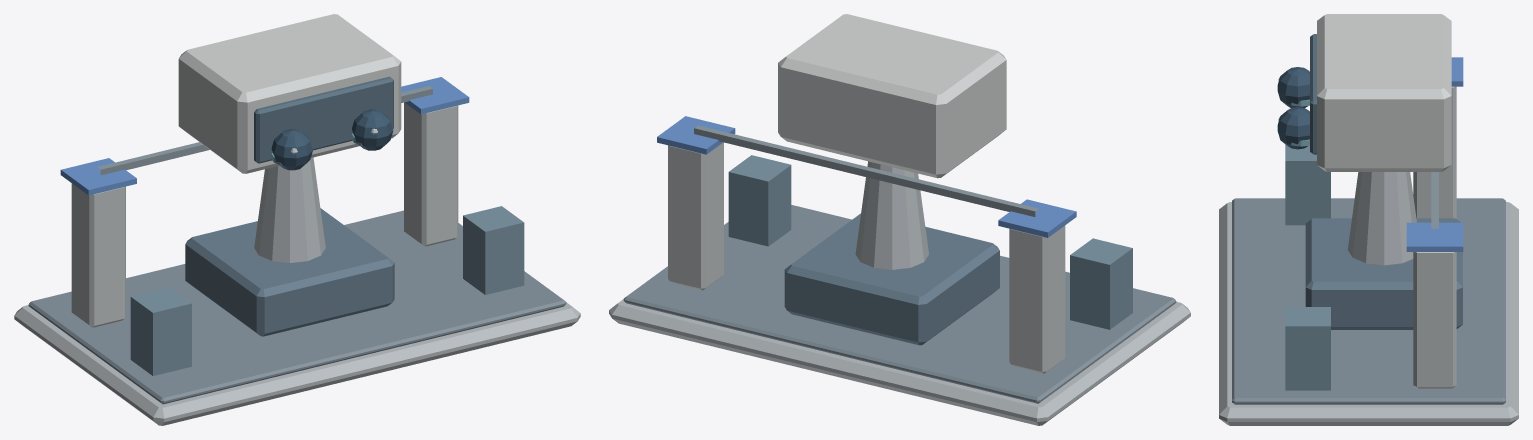
Rendered from vision.glb.
3 renders of one model, left to right at view 1: azimuth 30°, elevation 25°; view 2: azimuth 150°, elevation 25°; view 3: azimuth 270°, elevation 25°, orthographic. The views are drawn at different scales.
Parts seen in each view (by area): view 1: vision; view 2: vision; view 3: vision.
Boxes of the visible parts, bbox=[...] form: vision: bbox=[14, 14, 580, 425]; vision: bbox=[609, 14, 1190, 425]; vision: bbox=[1219, 14, 1518, 425].
Bounding box in the file's own units: 9.9 × 5.9 × 5.9.
